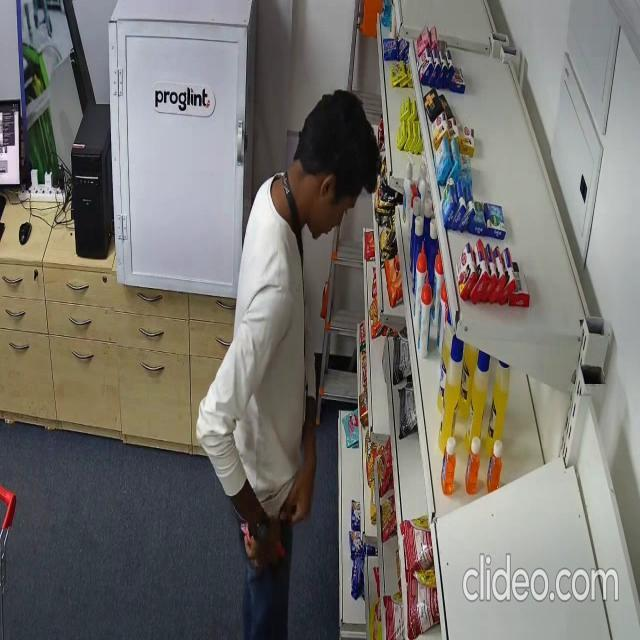Shoplifting: (196, 90, 382, 640)
